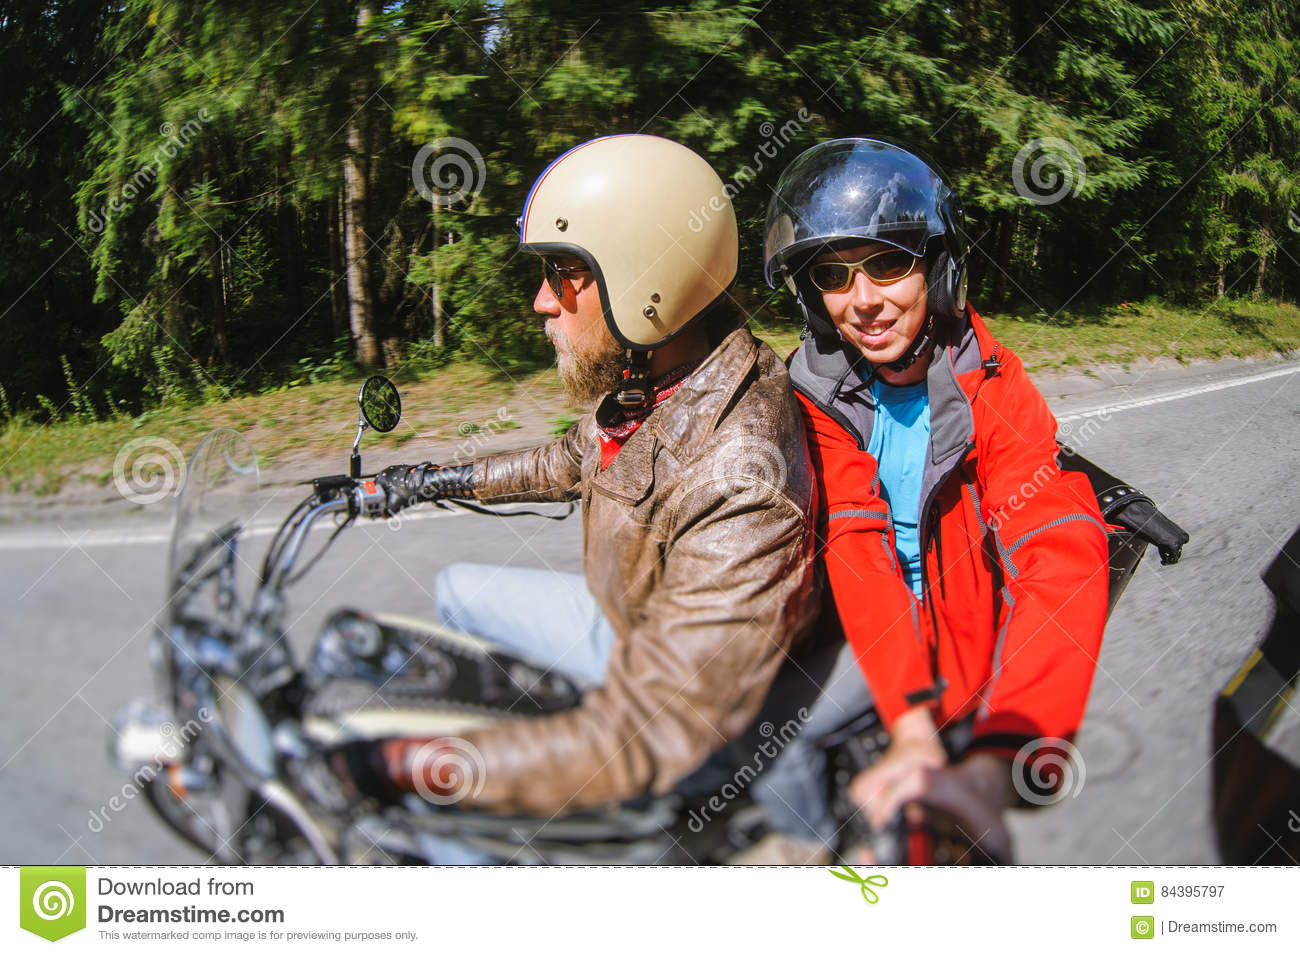helmet: (523, 138, 748, 322), (770, 144, 976, 338)
